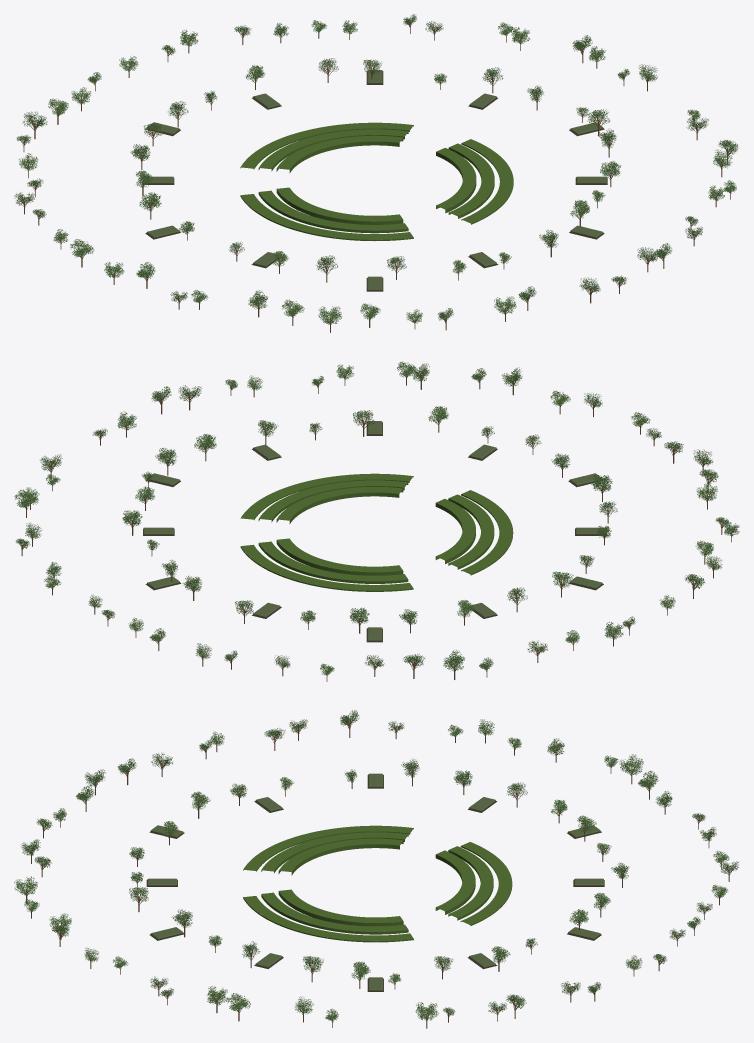
The model's file is oriental-pearl-tower-trees.glb.
The picture shows the model from 3 angles, top to bottom: view 1: azimuth 30°, elevation 25°; view 2: azimuth 150°, elevation 25°; view 3: azimuth 270°, elevation 25°; orthographic projection.
Visible parts, largest first — view 1: 01_Plaza; view 2: 01_Plaza; view 3: 01_Plaza.
Part boxes in pixels (x1,y1,x2,y2): 01_Plaza: (14, 14, 738, 332); 01_Plaza: (14, 361, 739, 681); 01_Plaza: (14, 710, 738, 1028).
Bounding box in the file's own units: 284 × 11.67 × 289.
